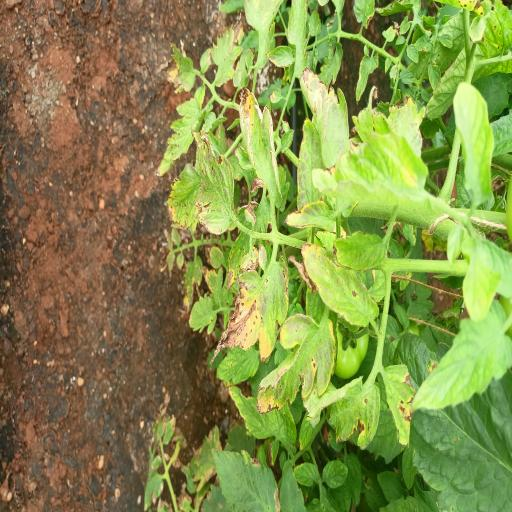Early Blight: (208, 258, 292, 374), (256, 313, 336, 418), (300, 240, 380, 329), (236, 84, 285, 196), (318, 375, 382, 452), (211, 447, 281, 512), (194, 137, 236, 236), (385, 364, 417, 450), (243, 199, 260, 227)
